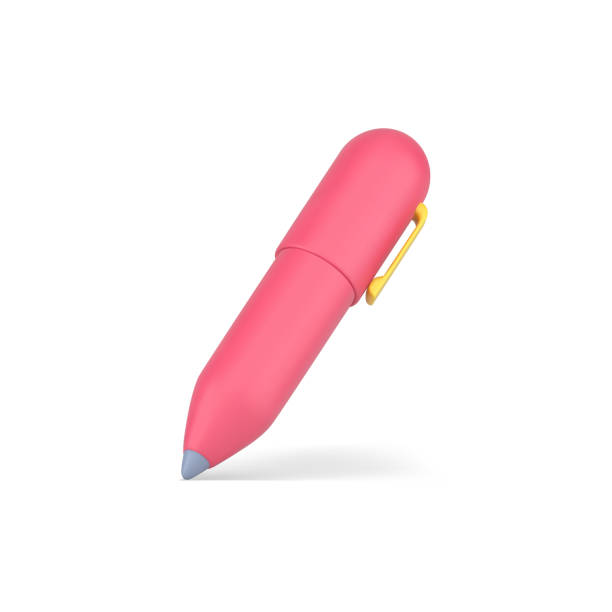pen: (169, 122, 439, 495)
